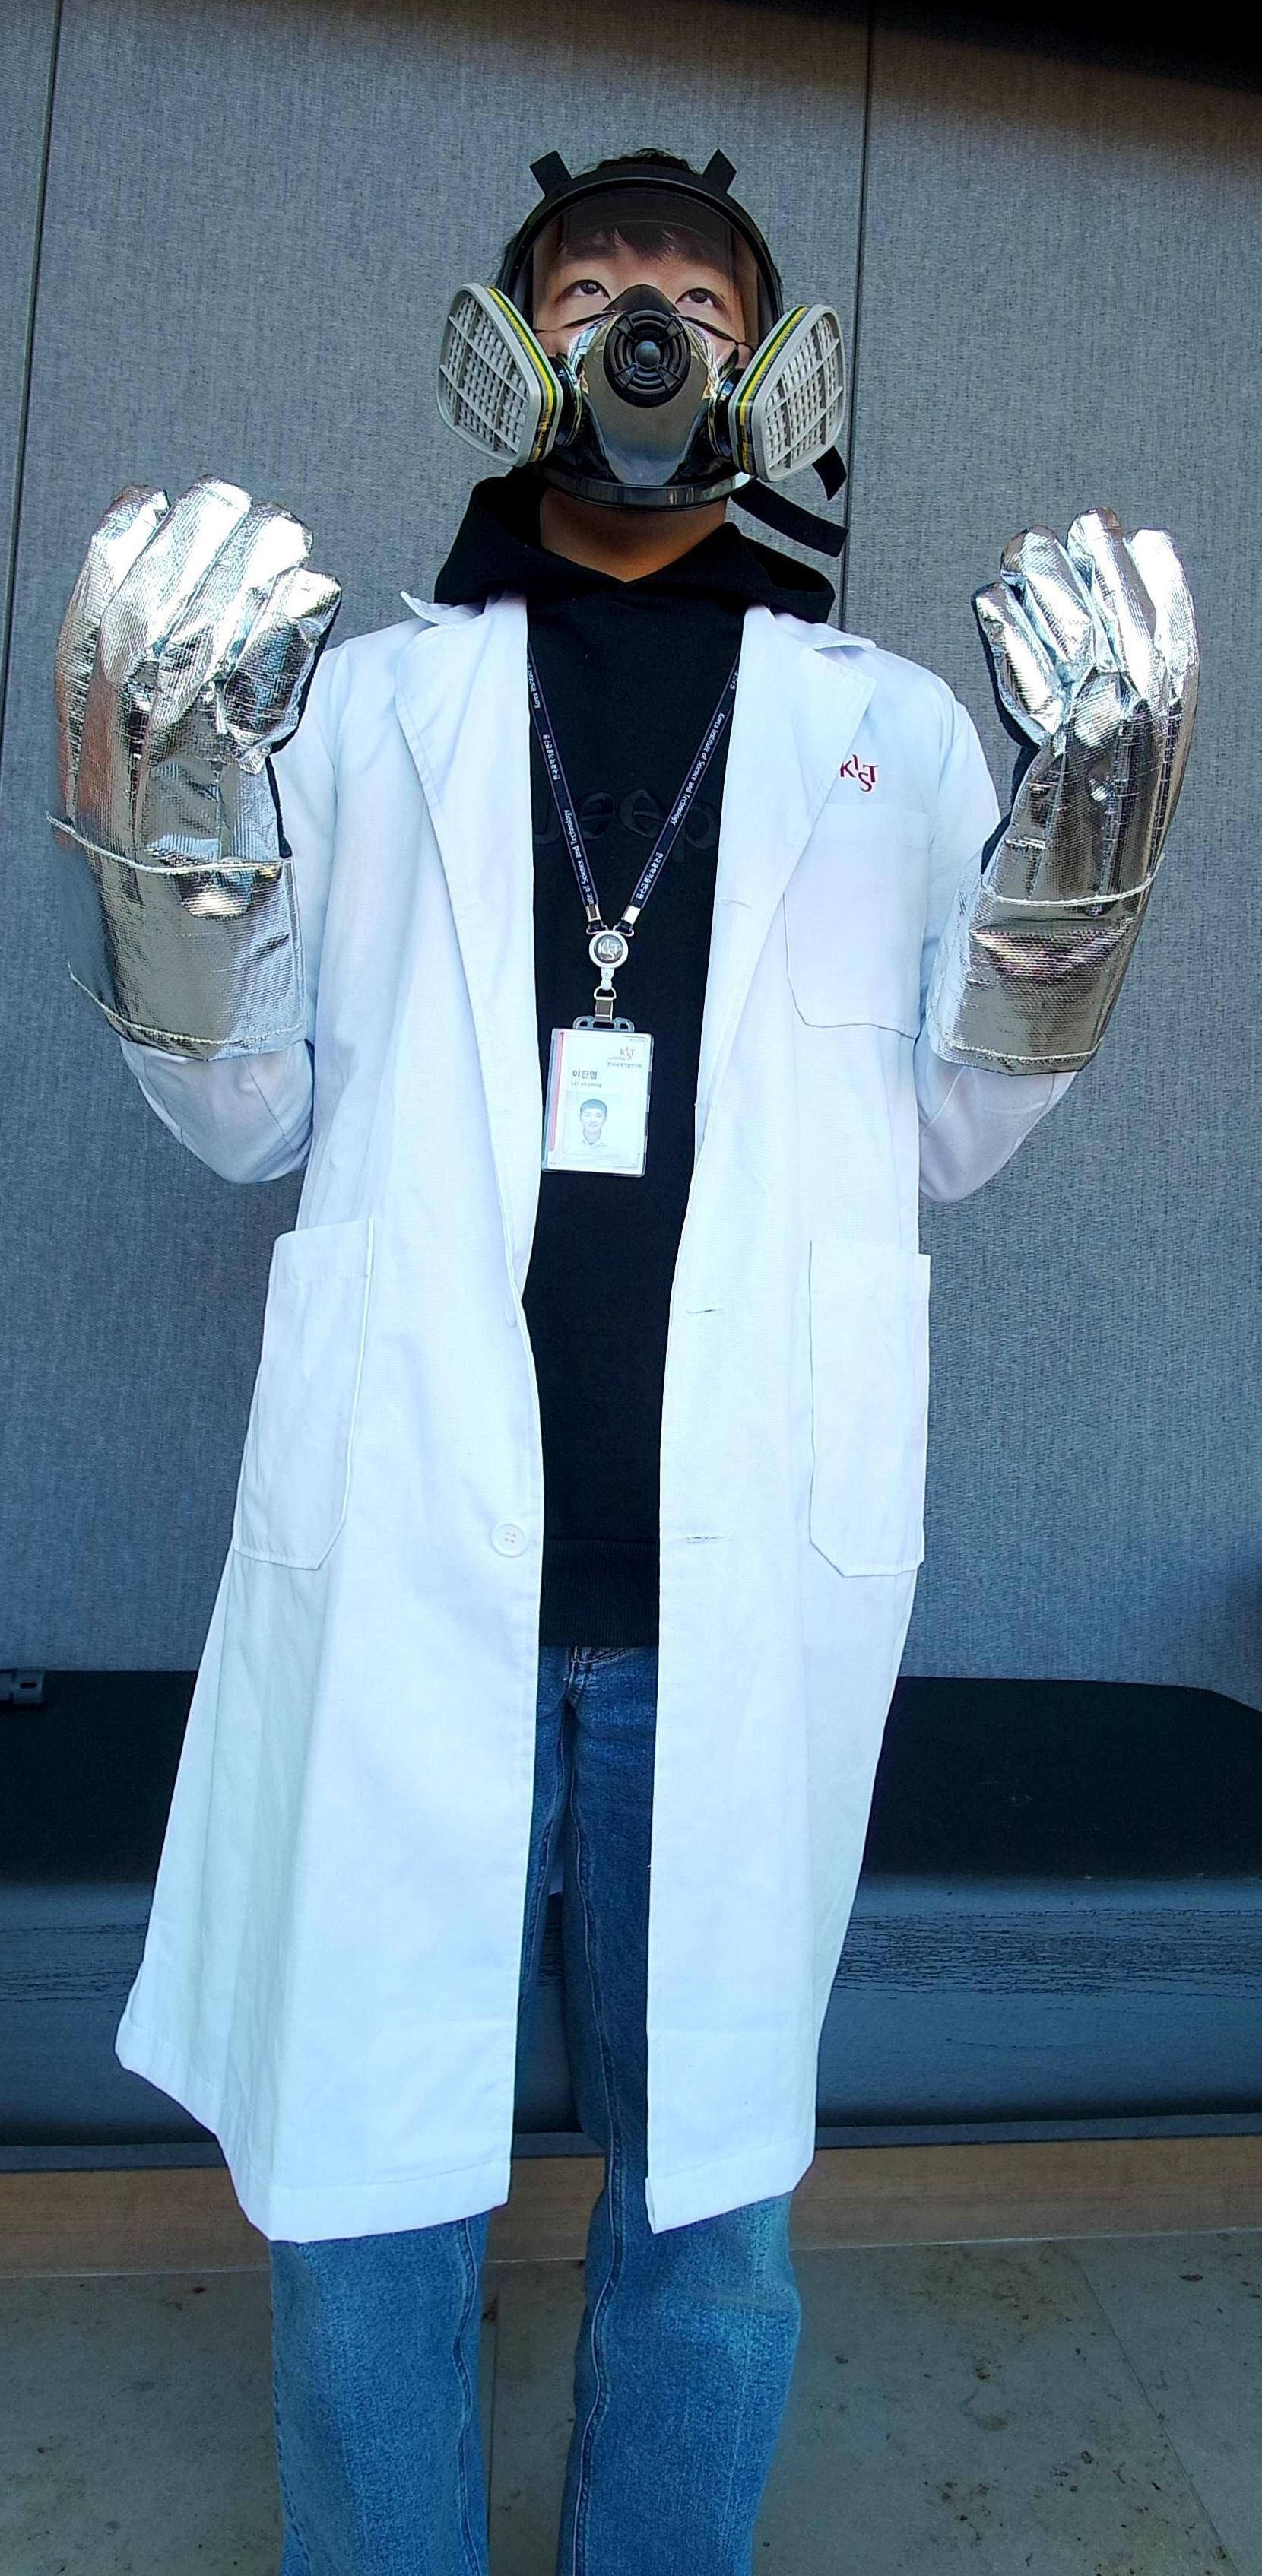lab_coat: (256, 647, 966, 2224)
